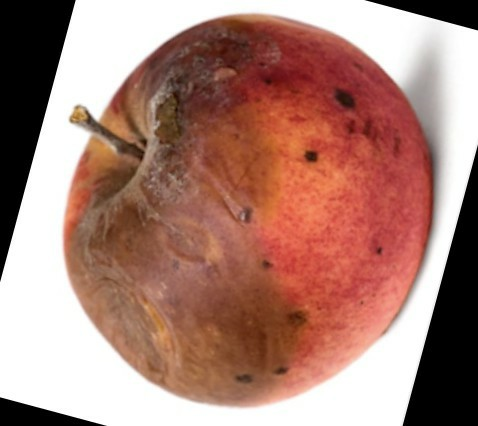rotten_apple: (63, 14, 434, 407)
